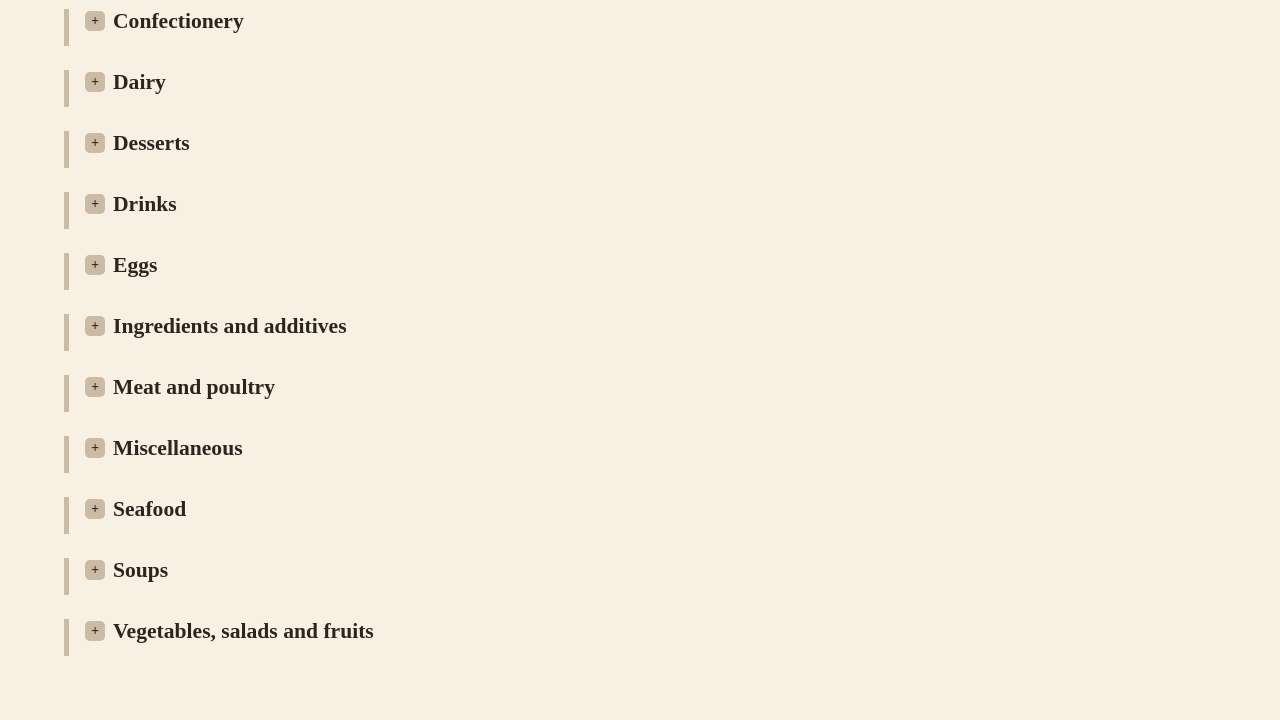
it: CataloguePage counts while filtering › keeps browsing wording when only the dietary scope differs from the default
This screenshot has width=1280, height=720.
(page scrolled)
Click the button "+ Seafood". click: (136, 509)
box: [85,497,186,522]
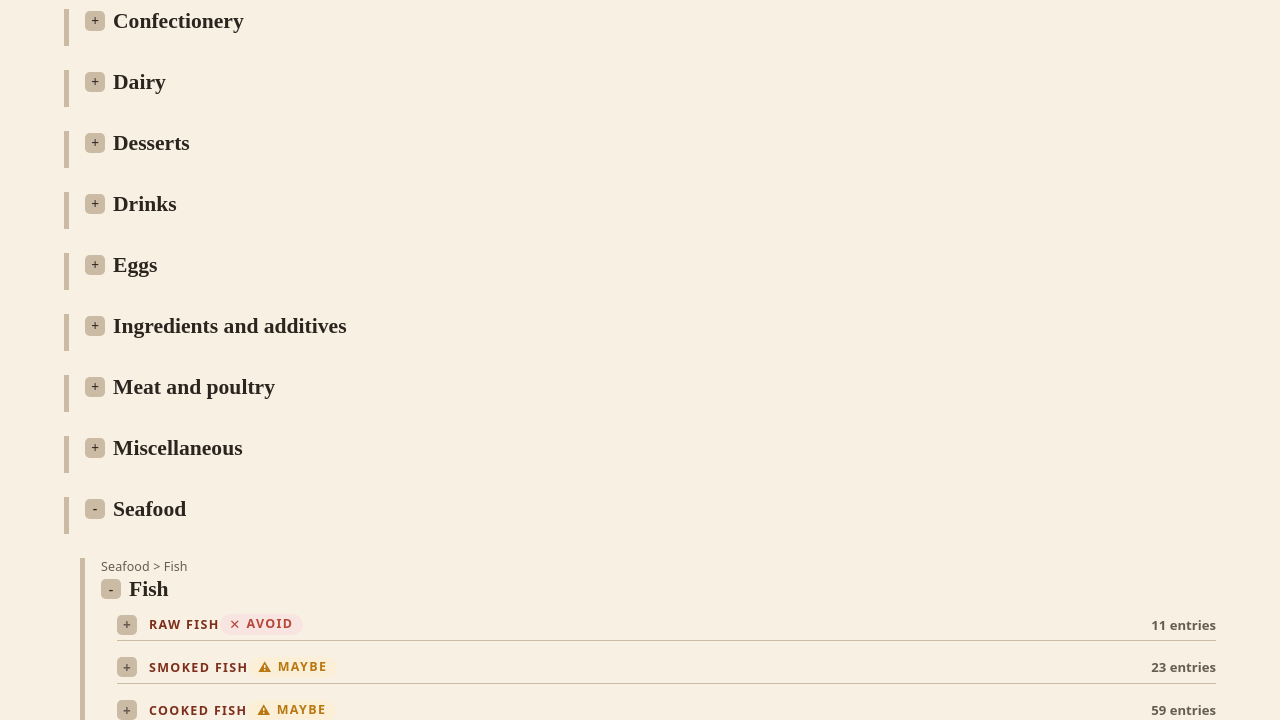
Result: the text "23 entries" is shown at [1151,658,1216,676]
Click the button "- Fish". click: (135, 590)
box: [101,577,169,602]
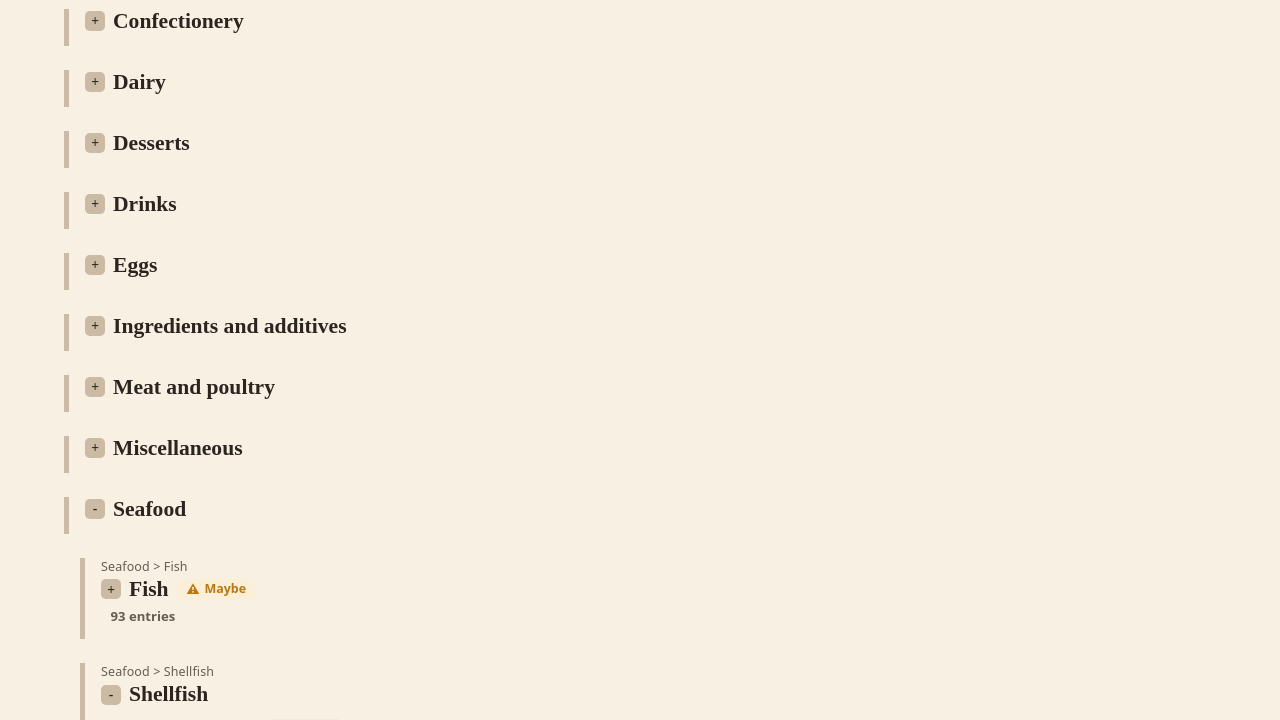
Result: the text with class "category-entry-count" reads "93 entries" at [111,607,175,625]
